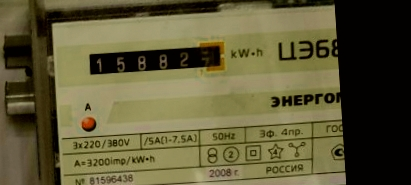1: (94, 55, 104, 72)
2: (178, 49, 189, 67)
5: (115, 54, 126, 71)
7: (200, 55, 210, 66)
8: (157, 51, 168, 69), (136, 54, 147, 70)
screen: (81, 35, 231, 84)
